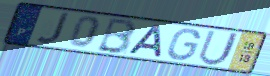0: (68, 15, 102, 50)
A: (126, 24, 164, 59)
B: (95, 17, 138, 55)
G: (166, 27, 202, 62)
J: (35, 12, 72, 46)
U: (196, 29, 242, 67)
